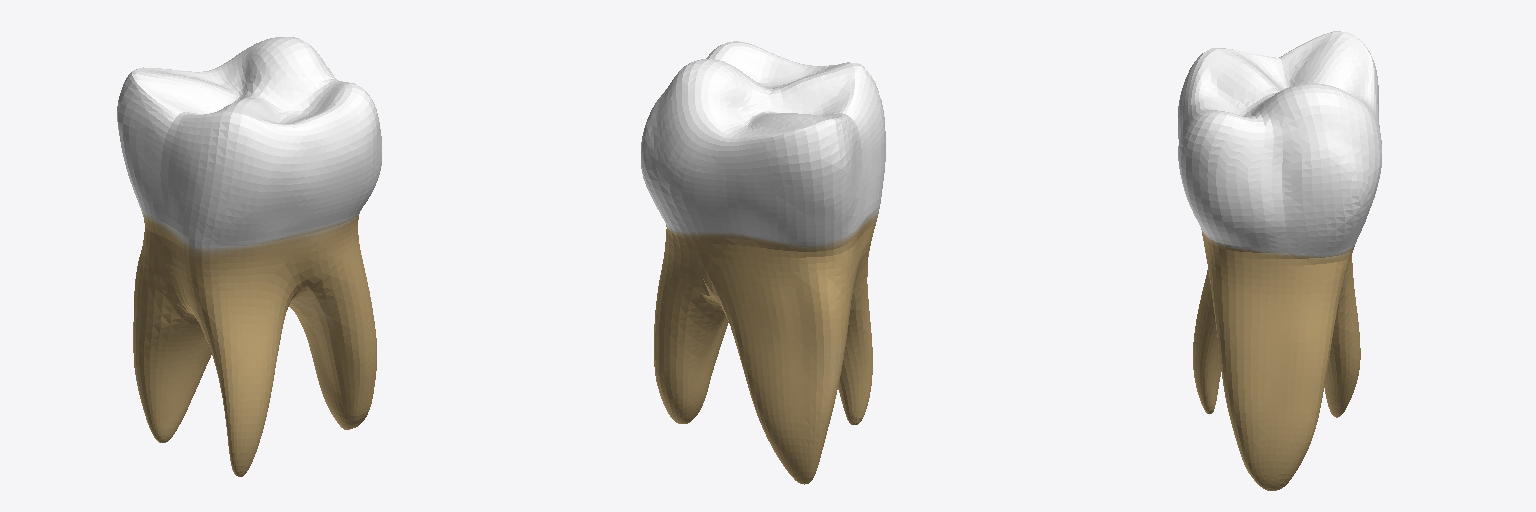
3 renders of one model, left to right at view 1: azimuth 30°, elevation 25°; view 2: azimuth 150°, elevation 25°; view 3: azimuth 270°, elevation 25°, orthographic.
Visible parts, largest first — view 1: outer; view 2: outer; view 3: outer.
Boxes of the visible parts, <box> form: outer: <box>117,37,381,476</box>; outer: <box>641,41,885,484</box>; outer: <box>1178,31,1381,490</box>.
Bounding box in the file's own units: 4.56 × 7.87 × 3.81.
Materials: 2 (1 with a texture image).